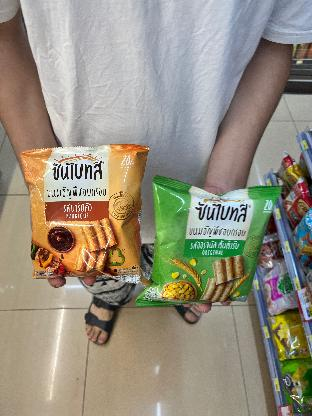Plastic Packaging: (12, 140, 156, 290), (142, 168, 272, 316)
